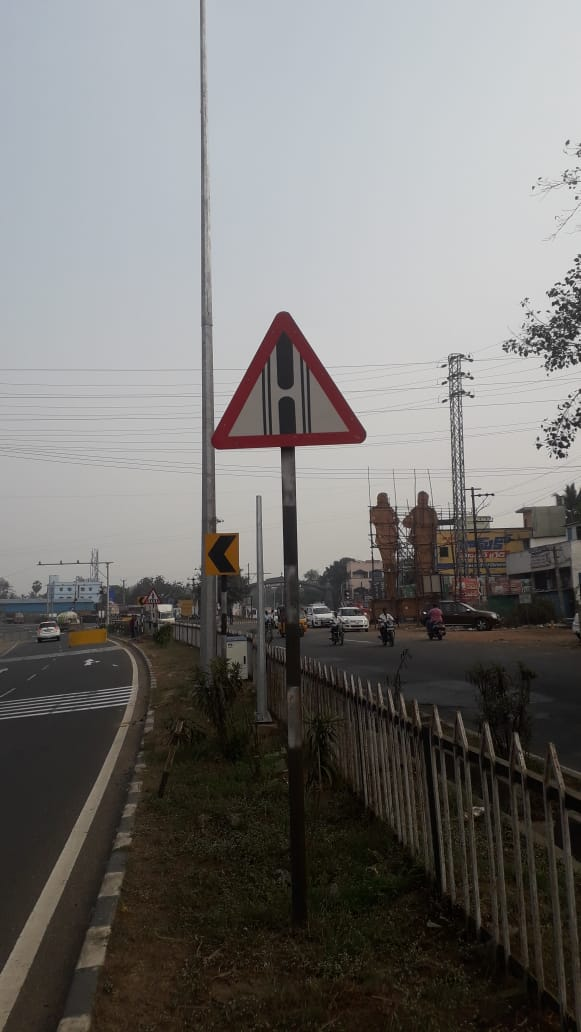highway go straight: (199, 305, 392, 480)
